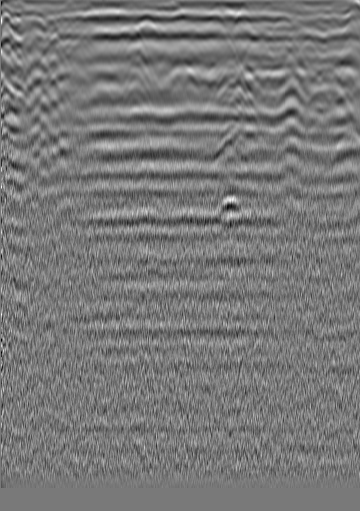가스: (210, 191, 248, 218)
상수: (311, 28, 331, 48)
오수: (27, 30, 47, 50)
우수: (169, 29, 189, 49)
